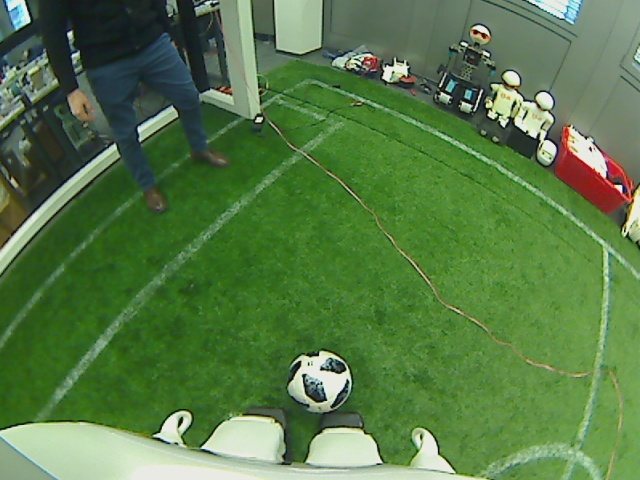ball: (282, 347, 354, 414)
